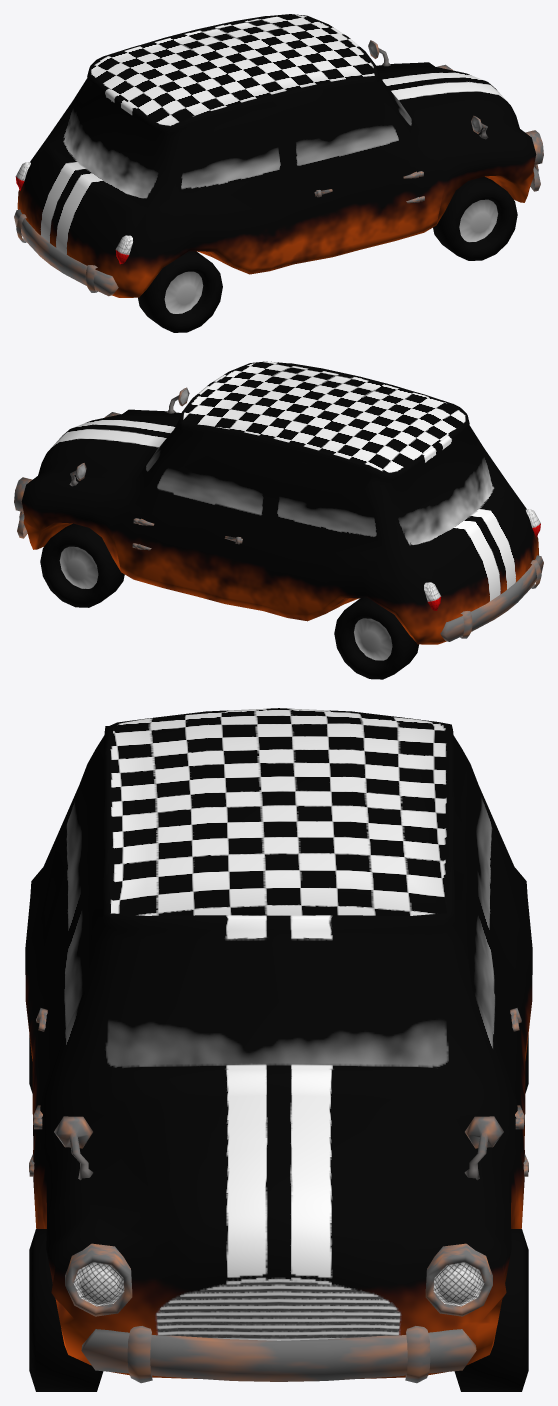
The model's file is carblack.glb.
The picture shows the model from 3 angles, top to bottom: view 1: azimuth 30°, elevation 25°; view 2: azimuth 150°, elevation 25°; view 3: azimuth 270°, elevation 25°; orthographic projection. The views are drawn at different scales.
Visible parts, largest first — view 1: carblack, lowpolywheel.009, lowpolywheel.010, Cube.007, backlight.002, RETROVISEURLOW.002; view 2: carblack, lowpolywheel.012, lowpolywheel.011, Cube.007, backlight.002, RETROVISEURLOW.002; view 3: carblack, Cube.008, lightinfront.002, lowpolywheel.009, lowpolywheel.012, RETROVISEURLOW.002, Cube.009.
Part boxes in pixels (x1,y1,x2,y2): carblack: (17, 14, 536, 297); lowpolywheel.009: (433, 176, 517, 260); lowpolywheel.010: (138, 251, 222, 332); Cube.007: (14, 209, 118, 296); backlight.002: (15, 162, 132, 264); RETROVISEURLOW.002: (368, 40, 488, 139); carblack: (21, 361, 538, 644); lowpolywheel.012: (40, 523, 124, 607); lowpolywheel.011: (334, 598, 418, 679); Cube.007: (440, 555, 543, 641); backlight.002: (424, 509, 540, 610); RETROVISEURLOW.002: (69, 387, 189, 486); carblack: (25, 708, 532, 1378); Cube.008: (81, 1326, 476, 1383); lightinfront.002: (65, 1243, 492, 1316); lowpolywheel.009: (29, 1229, 103, 1391); lowpolywheel.012: (454, 1229, 528, 1391); RETROVISEURLOW.002: (54, 1116, 503, 1180); Cube.009: (29, 1008, 528, 1176).
Size of the model in its own units: 8.13 by 3.46 by 3.93.
Materials: 1 (1 with a texture image).
